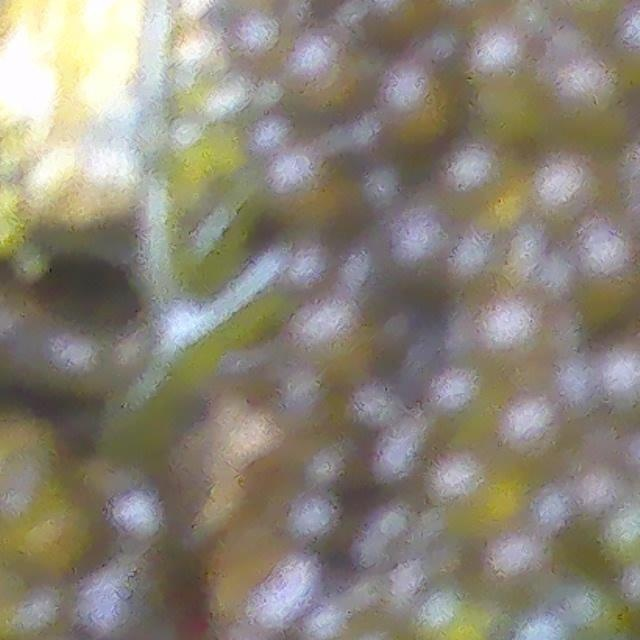SeaGrape: (425, 594, 493, 640)
